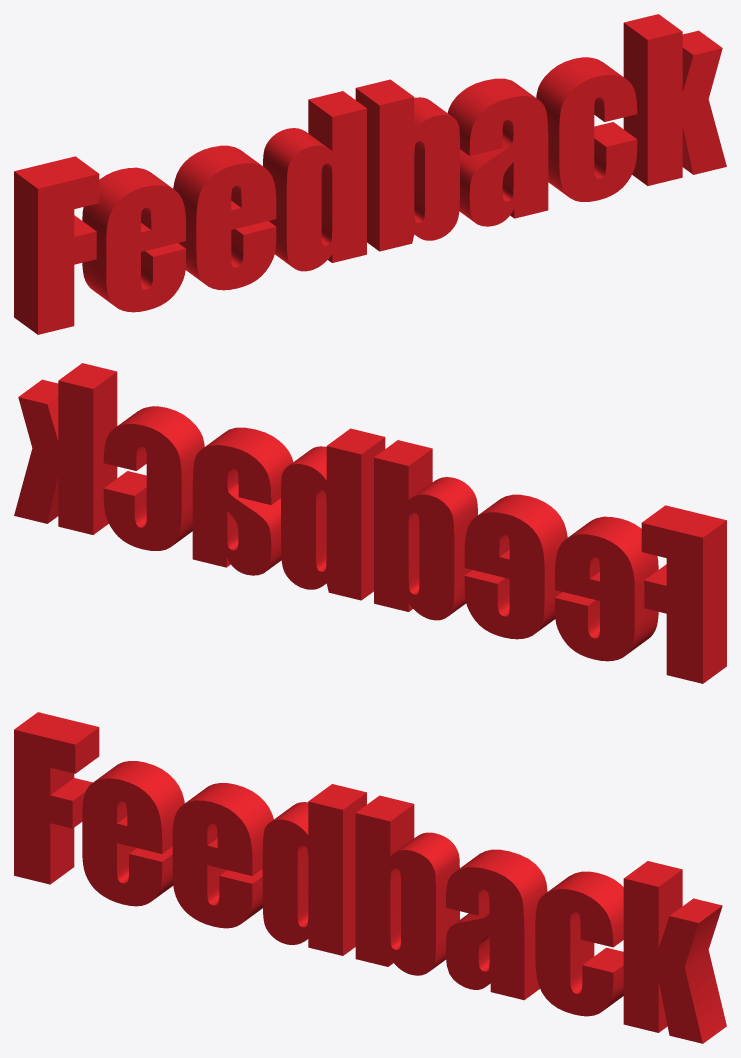
The model's file is Feedback.glb.
3 views of the same model, one above another, from view 1: azimuth 30°, elevation 25°; view 2: azimuth 150°, elevation 25°; view 3: azimuth 330°, elevation 25° (orthographic).
Visible parts, largest first — view 1: mesh_id32; view 2: mesh_id32; view 3: mesh_id32.
Part boxes in pixels (<box>): mesh_id32: <box>14,14,726,334</box>; mesh_id32: <box>14,363,726,683</box>; mesh_id32: <box>14,712,726,1043</box>.
Bounding box in the file's own units: 0.249 × 0.0512 × 0.015.
Materials: 1 (1 with a texture image).
